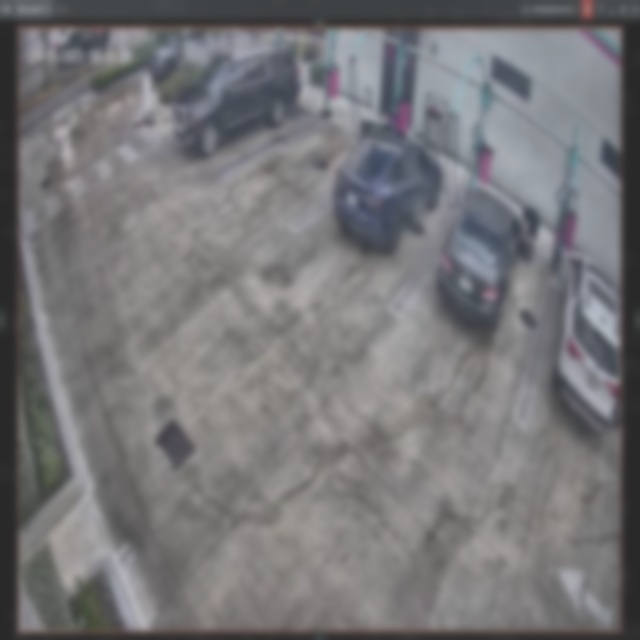Car: (175, 44, 298, 157), (332, 125, 443, 247), (440, 184, 523, 326)
